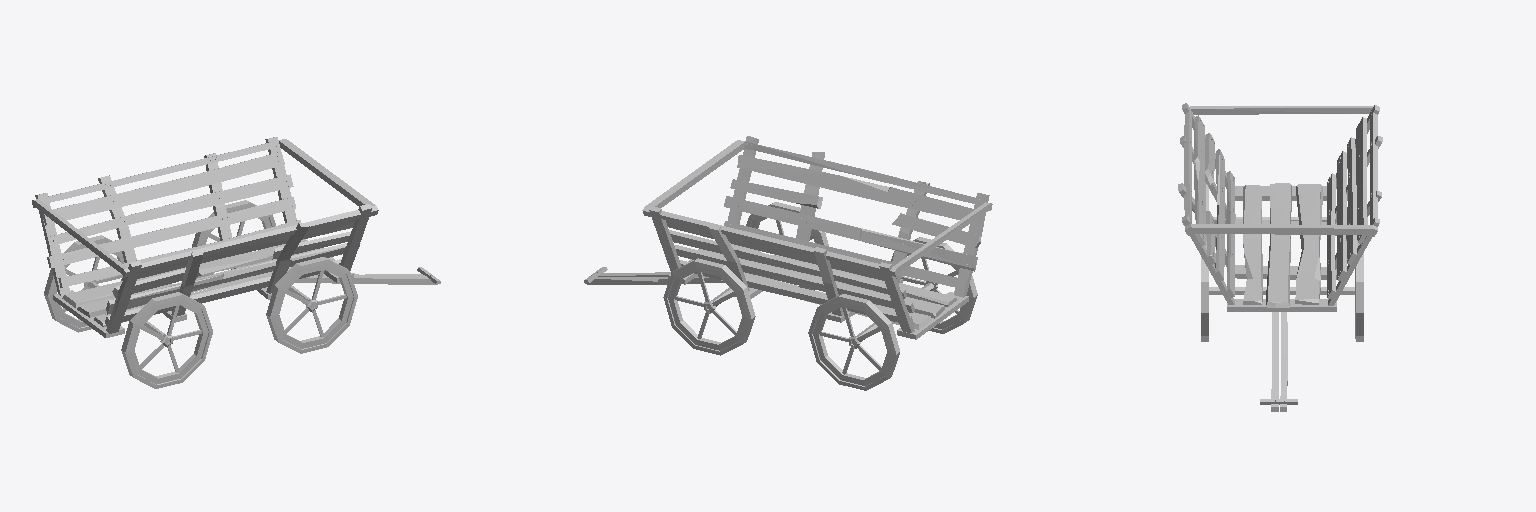
The model's file is Cart_1.obj.
3 views of the same model, side by side, from view 1: azimuth 30°, elevation 25°; view 2: azimuth 150°, elevation 25°; view 3: azimuth 270°, elevation 25° (orthographic).
Parts seen in each view (by area): view 1: Cart_1; view 2: Cart_1; view 3: Cart_1.
Part boxes in pixels (bbox=[...]): Cart_1: bbox=[32, 137, 440, 388]; Cart_1: bbox=[584, 136, 992, 390]; Cart_1: bbox=[1178, 103, 1382, 411].
Size of the model in its own units: 3.81 by 1.44 by 1.9.